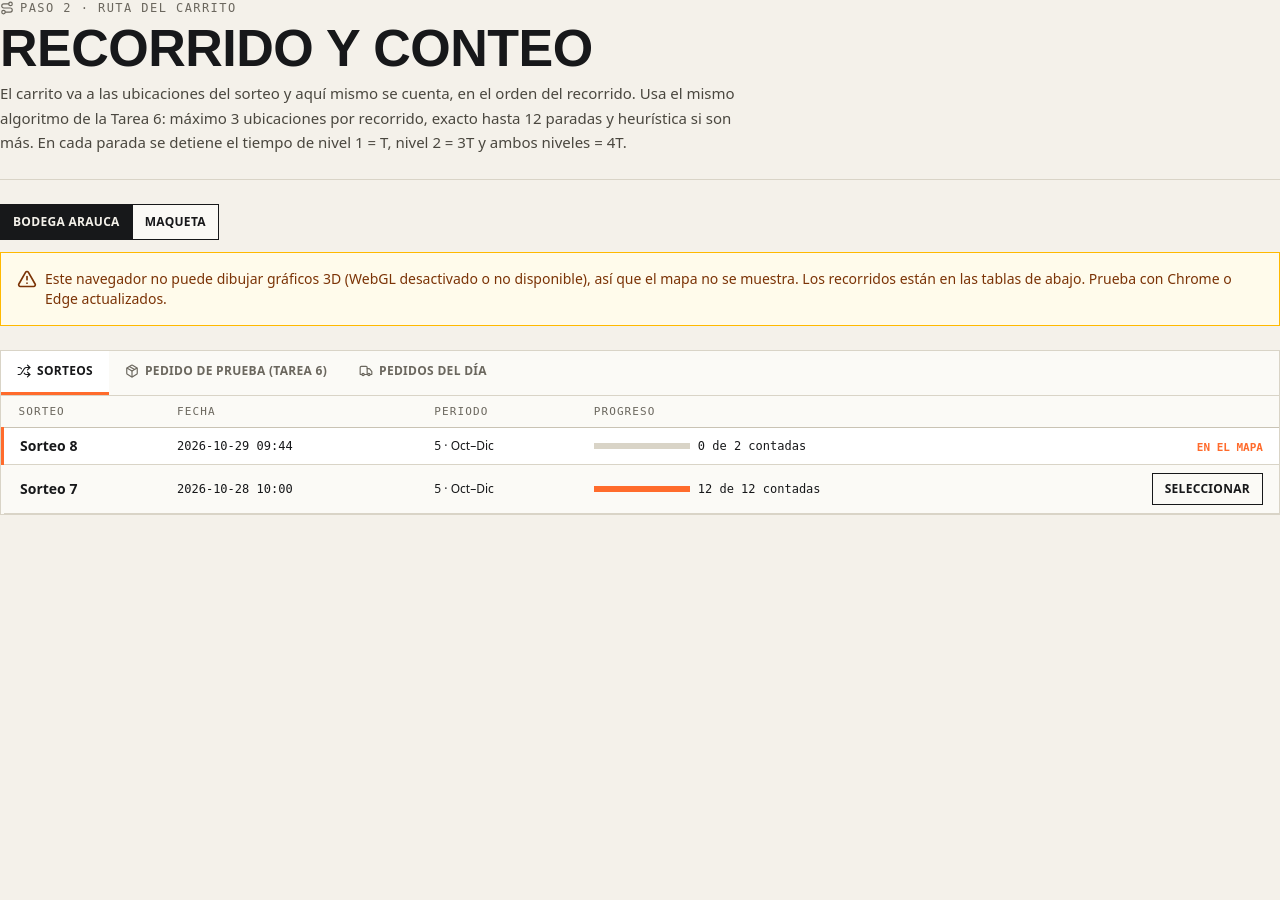
Scenario: Paso 2: Recorrido y conteo › el selector lista los sorteos con su progreso y "Seleccionar" cambia el sorteo
Expected: the text "12 de 12 contadas" is shown, [698,481,820,497]
Expected: the text "EN EL MAPA" is shown, [1197,441,1263,454]
Click the button with aria-label "Seleccionar sorteo 7" at (1207, 489), box [1152,473,1263,505]
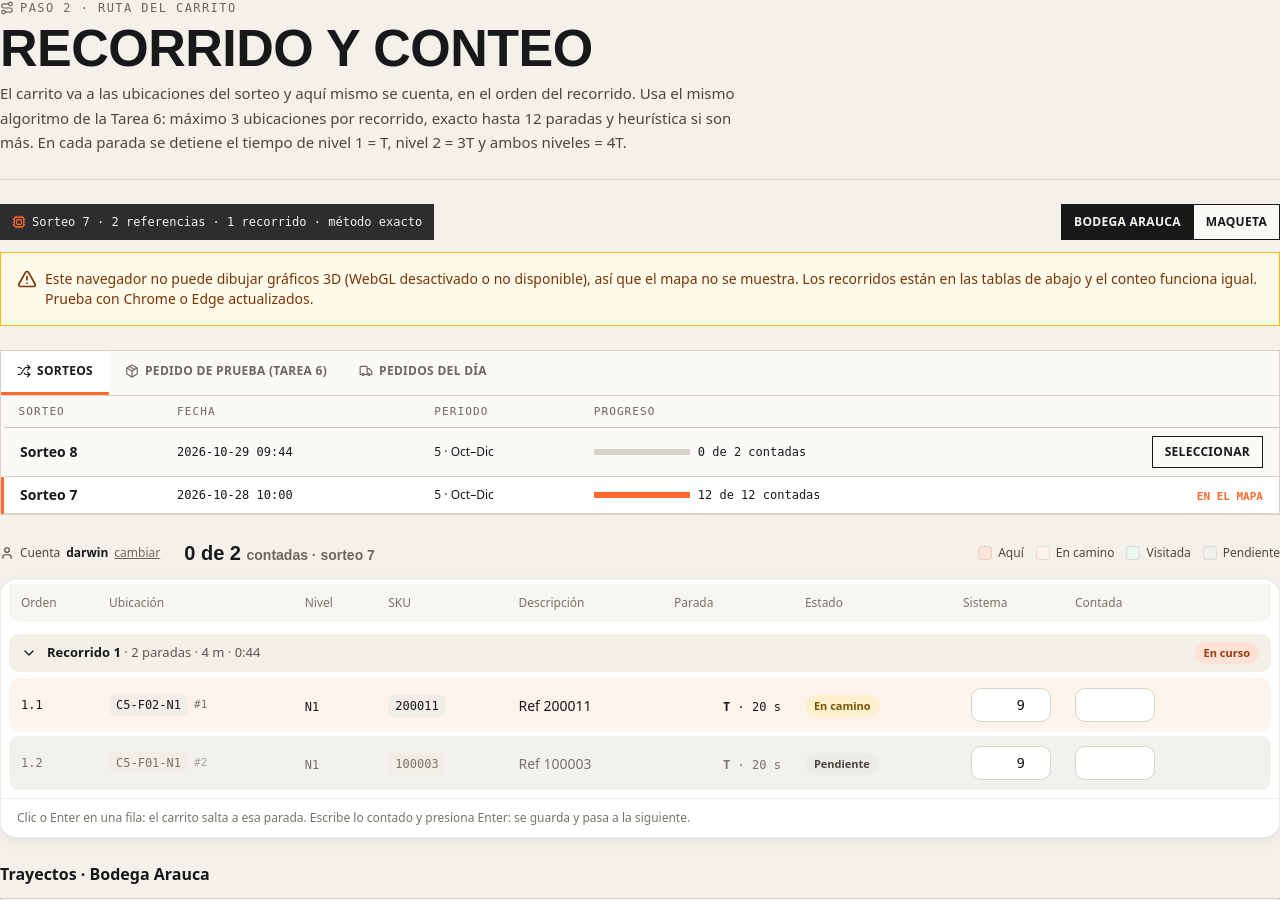
Expected: the button with aria-label "Seleccionar sorteo 8" is shown, [1152,436,1263,468]
